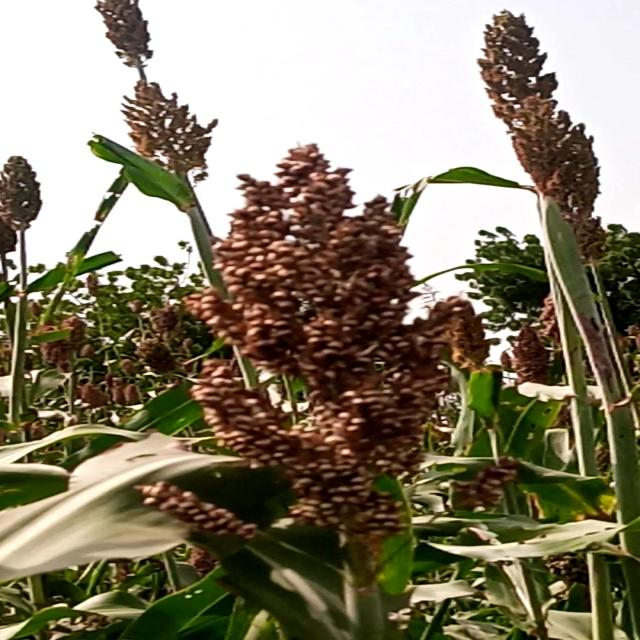RipeSorghum: (198, 132, 495, 538)
